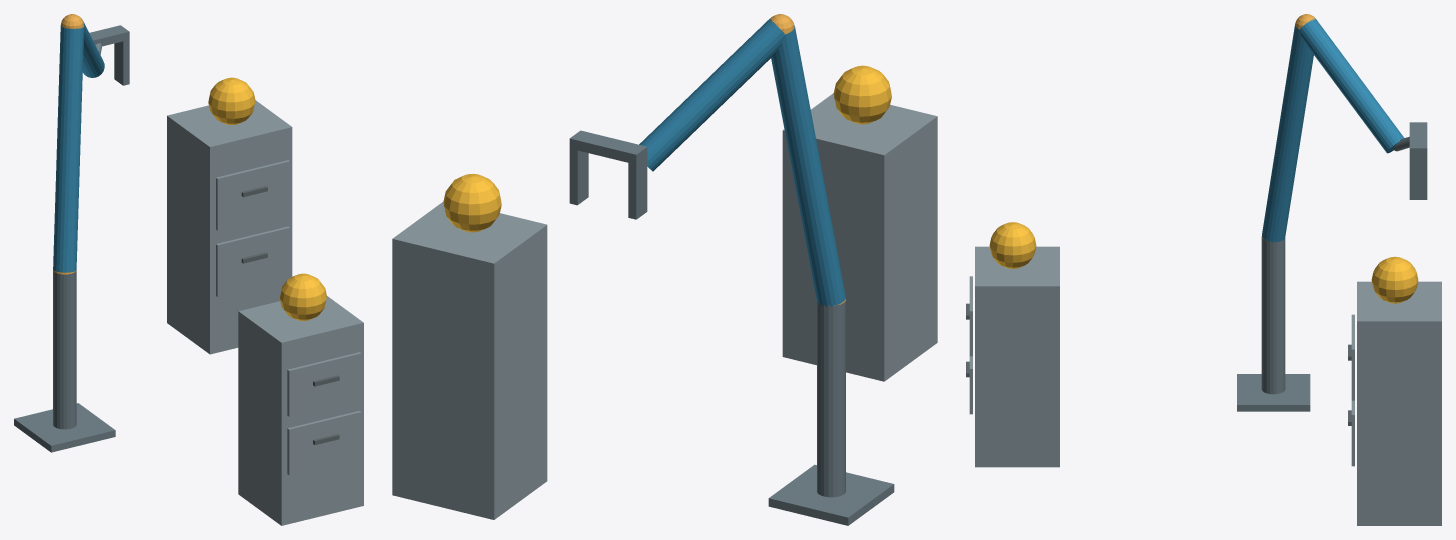
The picture shows the model from 3 angles, left to right: view 1: azimuth 30°, elevation 25°; view 2: azimuth 150°, elevation 25°; view 3: azimuth 270°, elevation 25°; orthographic projection. The views are drawn at different scales.
Visible parts, largest first — view 1: cabinet_1 body, cabinet_2 body, moving link 1, cabinet_2 drawer front.001, cabinet_2 drawer front, fixed post, cabinet_1 drawer front.001, cabinet_1 drawer front, pedestal, ball ball_2, released ball_1, moving link 2 (+2 smaller); view 2: cabinet_2 body, cabinet_1 body, moving link 1, fixed post, moving link 2, pedestal, released ball_1, ball ball_2, gripper bridge, gripper finger -1, gripper finger 1; view 3: cabinet_2 body, cabinet_1 body, moving link 1, fixed post, moving link 2, pedestal, ball ball_2, released ball_1, gripper finger 1, gripper bridge.
Boxes of the visible parts, <box> form: cabinet_1 body: <box>238,296,363,525</box>; cabinet_2 body: <box>167,100,292,354</box>; moving link 1: <box>53,25,83,272</box>; cabinet_2 drawer front.001: <box>216,160,289,230</box>; cabinet_2 drawer front: <box>216,226,289,296</box>; fixed post: <box>53,270,76,429</box>; cabinet_1 drawer front.001: <box>287,352,361,416</box>; cabinet_1 drawer front: <box>287,410,361,475</box>; pedestal: <box>14,403,115,452</box>; ball ball_2: <box>208,77,255,124</box>; released ball_1: <box>280,273,326,320</box>; moving link 2: <box>81,18,104,77</box>; cabinet_2 body: <box>392,201,547,519</box>; cabinet_1 body: <box>782,93,937,381</box>; moving link 1: <box>771,25,845,306</box>; fixed post: <box>817,301,845,497</box>; moving link 2: <box>639,18,785,171</box>; pedestal: <box>768,464,894,525</box>; released ball_1: <box>833,65,891,124</box>; ball ball_2: <box>443,173,501,232</box>; gripper bridge: <box>569,130,647,164</box>; gripper finger -1: <box>628,157,647,219</box>; gripper finger 1: <box>569,148,588,205</box>; cabinet_2 body: <box>1357,281,1441,525</box>; cabinet_1 body: <box>975,246,1059,467</box>; moving link 1: <box>1262,23,1313,242</box>; fixed post: <box>1261,237,1285,394</box>; moving link 2: <box>1299,18,1404,153</box>; pedestal: <box>1237,374,1310,411</box>; ball ball_2: <box>1371,256,1418,303</box>; released ball_1: <box>989,222,1036,268</box>; gripper finger 1: <box>1409,156,1427,199</box>; gripper bridge: <box>1409,122,1427,156</box>.
Bounding box in the file's own units: 1.17 × 1.48 × 1.62.
